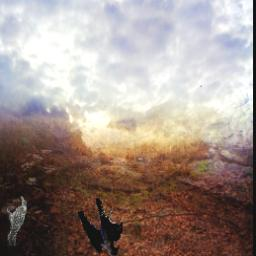Crow: (79, 198, 124, 256)
Woodpecker: (7, 195, 27, 247)
